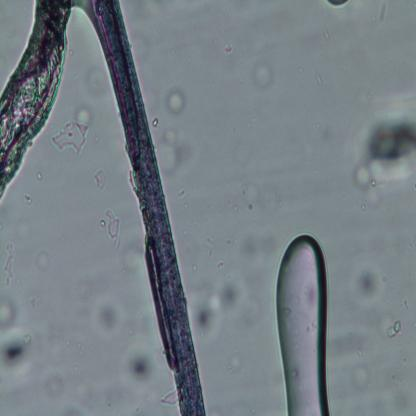Air bubble: (274, 232, 334, 415)
Background material: (352, 102, 416, 198), (158, 126, 195, 179), (327, 320, 372, 361), (51, 108, 91, 152), (0, 328, 36, 368), (350, 262, 382, 307), (120, 349, 156, 385), (32, 365, 67, 399), (191, 296, 217, 339), (237, 166, 263, 209), (219, 272, 243, 312), (94, 300, 121, 334), (99, 207, 120, 244), (221, 345, 244, 378), (250, 61, 275, 91), (0, 242, 16, 287), (352, 361, 372, 394), (166, 86, 186, 114), (29, 248, 52, 271), (0, 296, 15, 328), (92, 168, 109, 192), (161, 388, 180, 406), (384, 318, 401, 338), (31, 165, 45, 186), (325, 0, 354, 8), (225, 42, 234, 54), (150, 118, 159, 129), (315, 73, 323, 85)
Cellulose filter fibre: (0, 0, 74, 203)
Microfibre: (92, 1, 206, 415)
